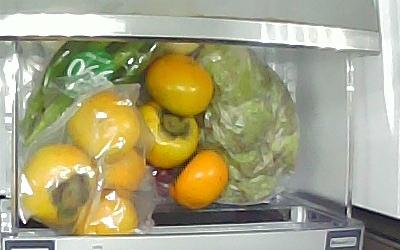persimmon: (136, 102, 198, 169), (146, 55, 214, 116), (170, 149, 228, 210)
persimmon_vinyl: (20, 144, 96, 226), (66, 91, 140, 165), (77, 194, 139, 236), (95, 148, 147, 193)
